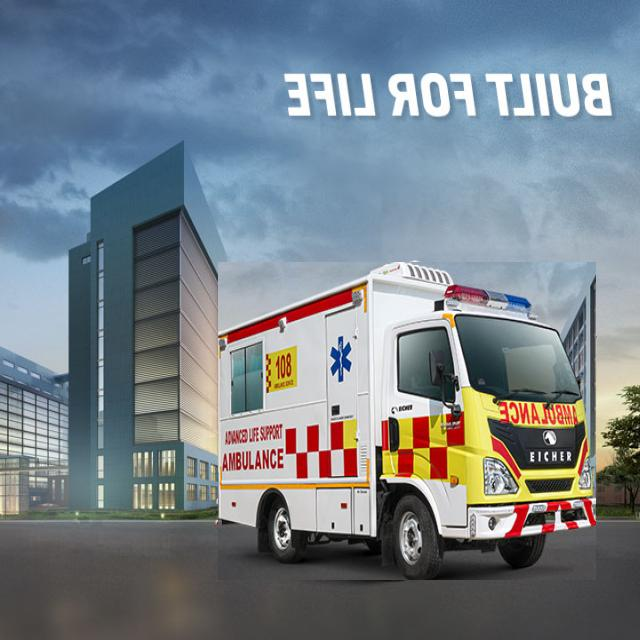emergency: (218, 262, 596, 580), (218, 262, 595, 580)
